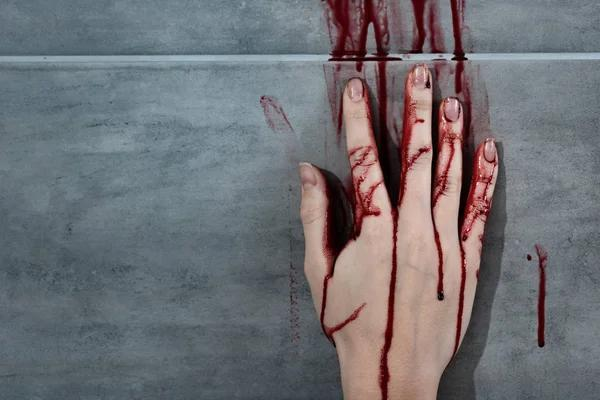Fire: (317, 0, 499, 348), (380, 233, 398, 400), (413, 0, 446, 50), (260, 95, 295, 134), (538, 244, 549, 348), (436, 224, 446, 302)
